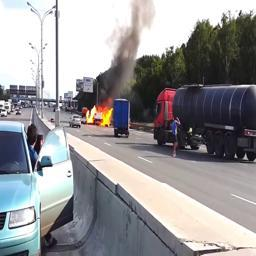fire: (87, 97, 113, 127)
